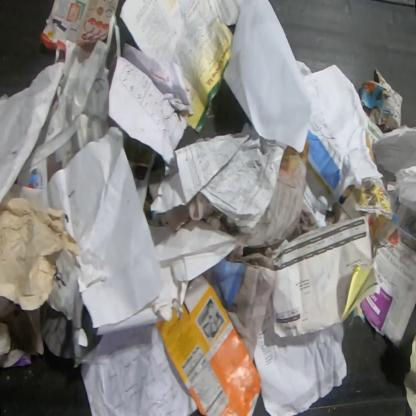cardboard: (153, 272, 261, 415)
